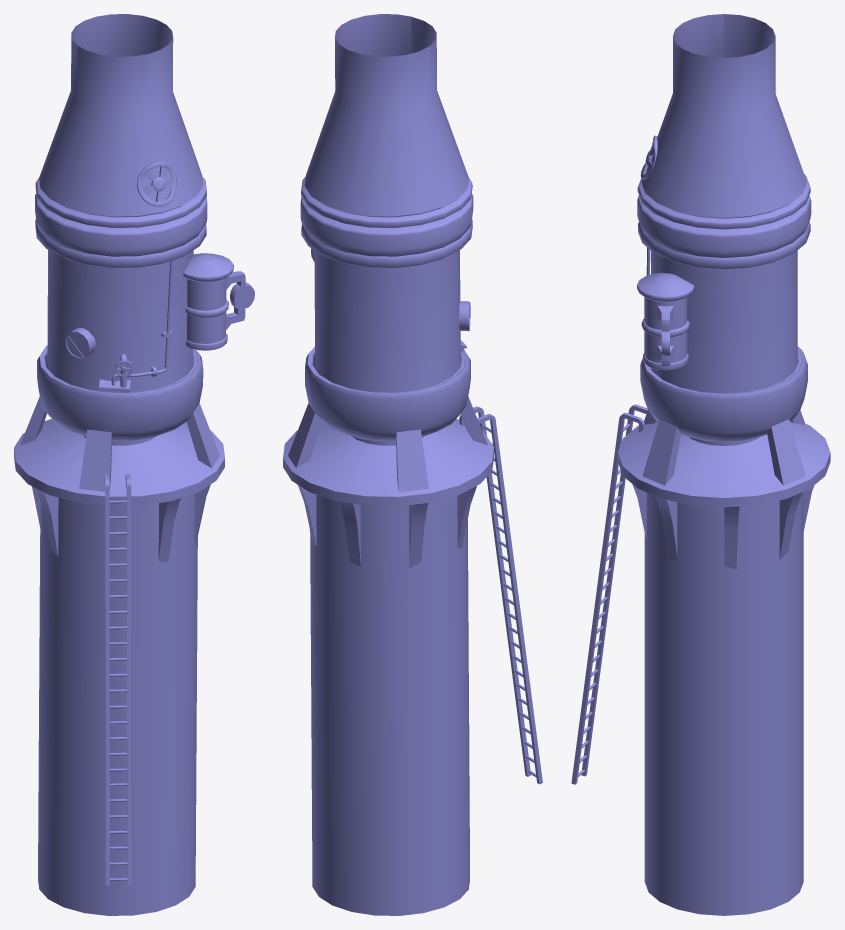
Rendered from RightTank1.fbx.
3 renders of one model, left to right at view 1: azimuth 30°, elevation 25°; view 2: azimuth 150°, elevation 25°; view 3: azimuth 270°, elevation 25°, orthographic.
Visible parts, largest first — view 1: Tank1; view 2: Tank1; view 3: Tank1.
Part boxes in pixels (box(x1,y1,x2,y2)): Tank1: box(14, 14, 254, 915); Tank1: box(283, 14, 542, 915); Tank1: box(571, 14, 830, 915).
Size of the model in its own units: 3.17 by 13.02 by 3.6.
